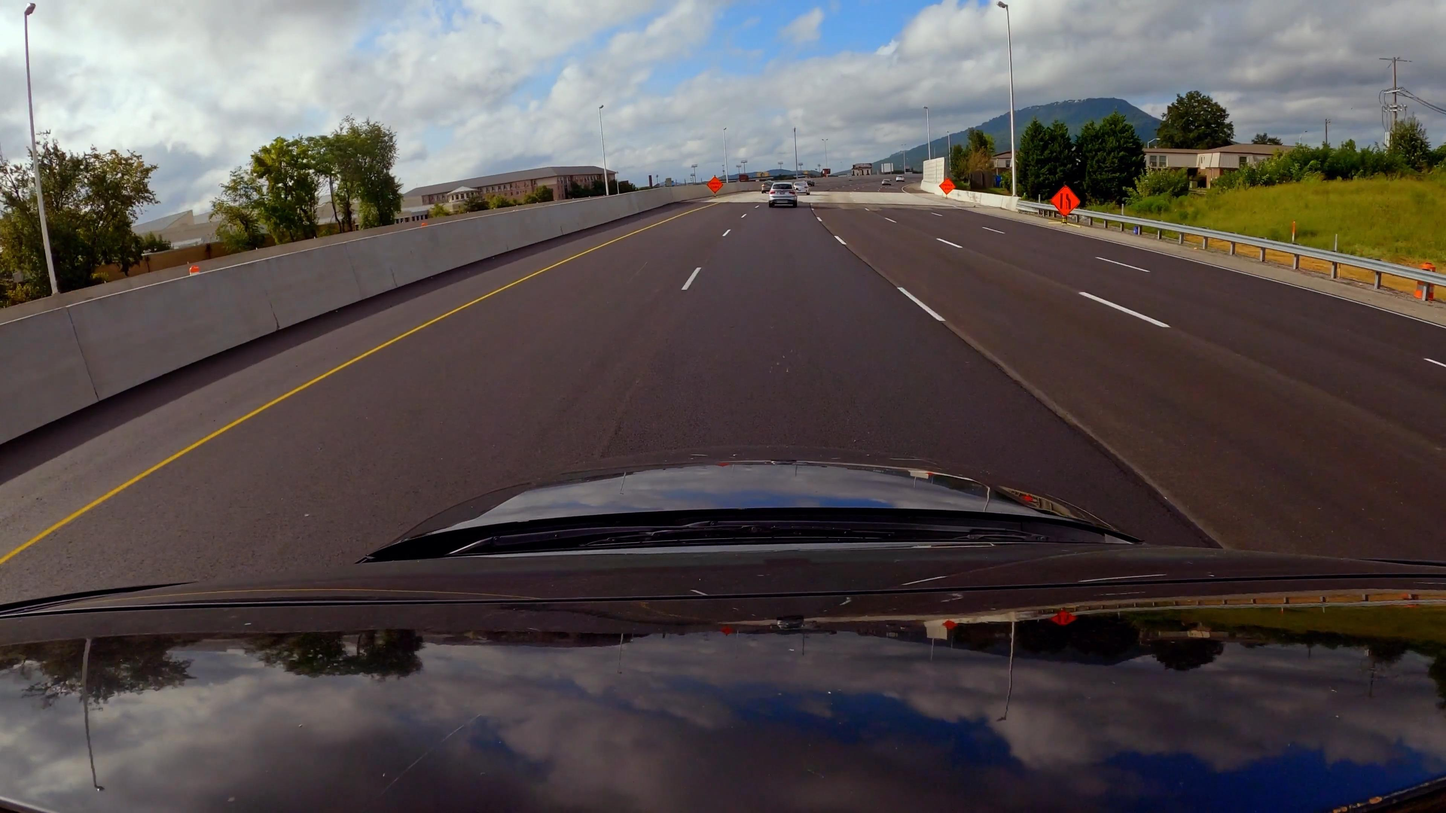dry: (0, 179, 1446, 600)
